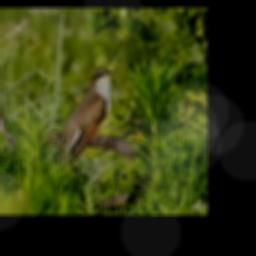Cuckoo: (60, 67, 115, 167)
